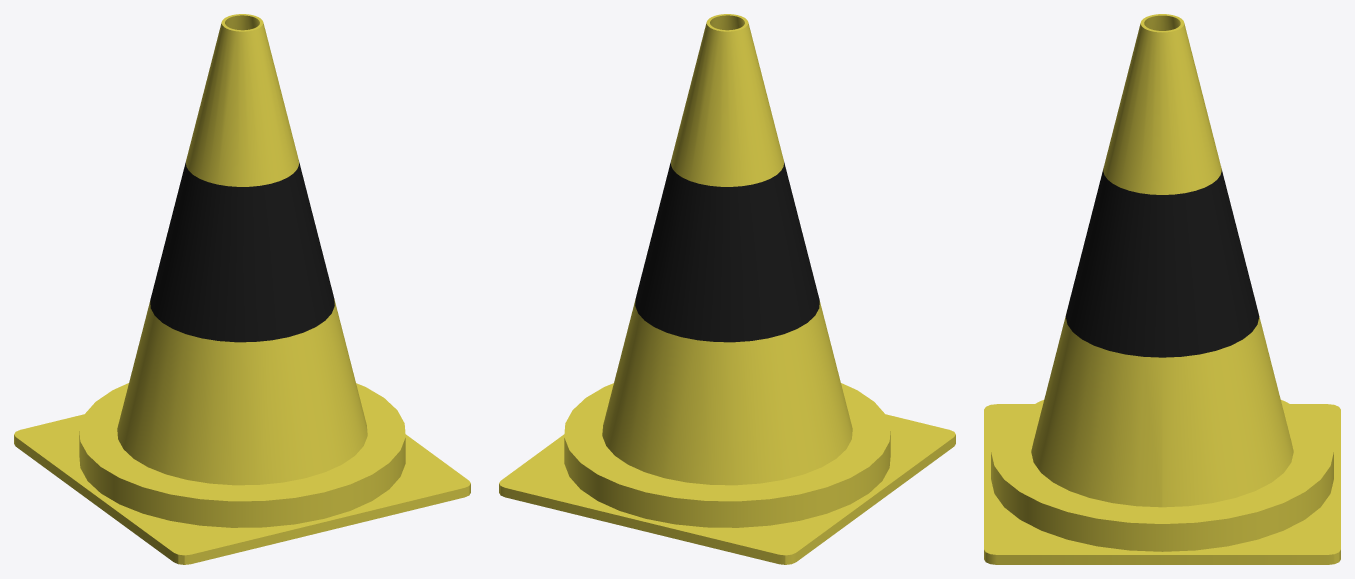
The model's file is SmallCone_yellow.fbx.
3 views of the same model, side by side, from view 1: azimuth 30°, elevation 25°; view 2: azimuth 150°, elevation 25°; view 3: azimuth 270°, elevation 25° (orthographic). The views are drawn at different scales.
Visible parts, largest first — view 1: Cone; view 2: Cone; view 3: Cone.
Part boxes in pixels (box(x1,y1,x2,y2)): Cone: box(14, 14, 470, 564); Cone: box(499, 14, 955, 564); Cone: box(984, 14, 1340, 564).
Bounding box in the file's own units: 45.6 × 65.74 × 45.6.
